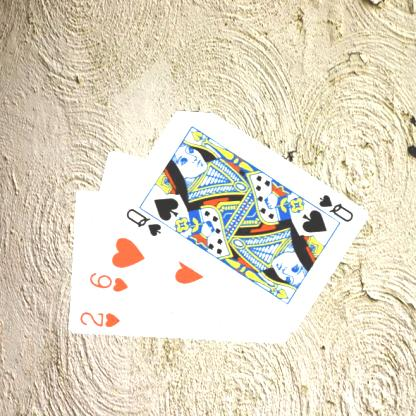2H: (76, 310, 122, 330)
6H: (86, 269, 130, 294)
QS: (122, 205, 162, 238), (315, 192, 355, 224)
